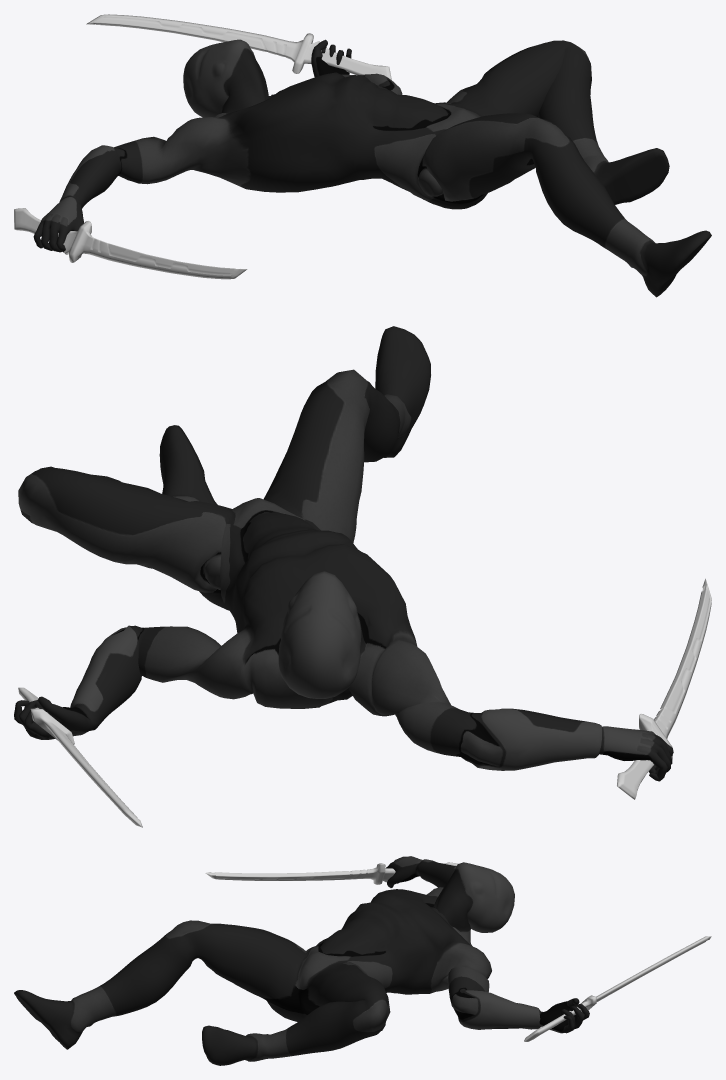
The picture shows the model from 3 angles, top to bottom: view 1: azimuth 30°, elevation 25°; view 2: azimuth 150°, elevation 25°; view 3: azimuth 270°, elevation 25°; orthographic projection. The views are drawn at different scales.
Visible parts, largest first — view 1: Cyborg_Ninja_Killer, Sword_l, Sword_l001; view 2: Cyborg_Ninja_Killer, Sword_l001, Sword_l; view 3: Cyborg_Ninja_Killer, Sword_l001, Sword_l.
Part boxes in pixels (left/top/right/bottom): Cyborg_Ninja_Killer: left=33, top=39, right=711, bottom=297; Sword_l: left=86, top=14, right=391, bottom=80; Sword_l001: left=14, top=208, right=247, bottom=279; Cyborg_Ninja_Killer: left=14, top=326, right=673, bottom=781; Sword_l001: left=617, top=578, right=711, bottom=799; Sword_l: left=18, top=687, right=142, bottom=827; Cyborg_Ninja_Killer: left=14, top=856, right=589, bottom=1065; Sword_l001: left=205, top=862, right=457, bottom=884; Sword_l: left=524, top=936, right=711, bottom=1041.
Size of the model in its own units: 171 by 41.17 by 231.
